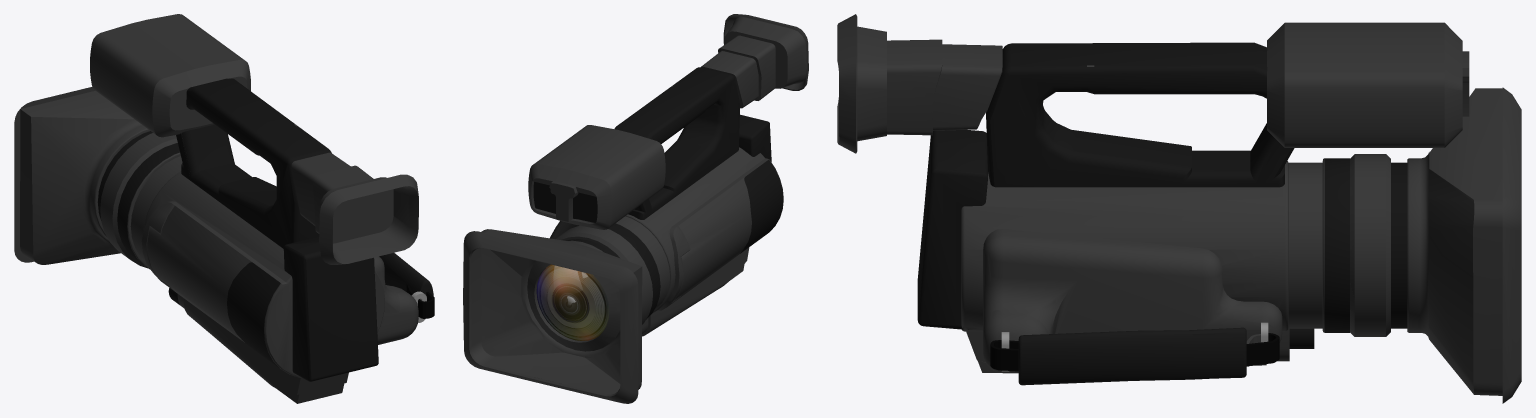
File: camera_glb.glb
3 renders of one model, left to right at view 1: azimuth 30°, elevation 25°; view 2: azimuth 150°, elevation 25°; view 3: azimuth 270°, elevation 25°, orthographic. The views are drawn at different scales.
Visible parts, largest first — view 1: video_camera_3_6; view 2: video_camera_3_6; view 3: video_camera_3_6.
Boxes of the visible parts, bbox=[...] form: video_camera_3_6: bbox=[14, 14, 434, 403]; video_camera_3_6: bbox=[463, 14, 808, 403]; video_camera_3_6: bbox=[837, 14, 1521, 403].
Size of the model in its own units: 0.5221 by 0.5435 by 1.04.
6 materials, 1 textured.
